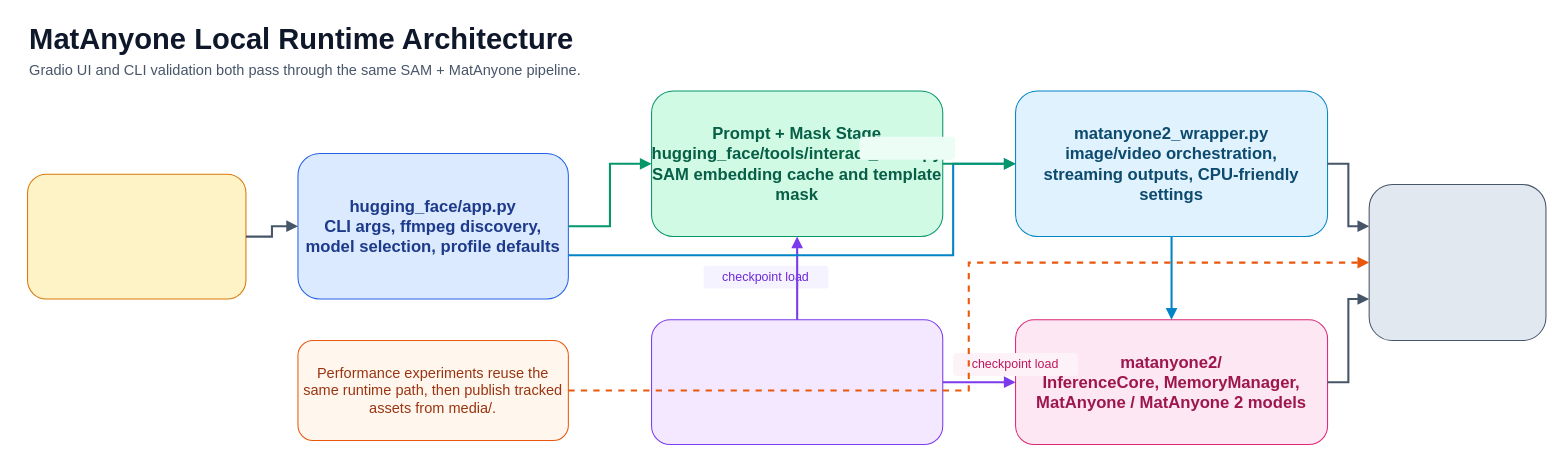
This 1564x463 diagram has some shape labels left out. The centre of each missing label's shape, as x and y in pixels:
"Entry Points Gradio UI scripts/run_pipeline_check.py" belongs at (x=136, y=236).
"Outputs UI previews MP4 / WebM / WebP results/ artifacts" belongs at (x=1457, y=262).
"pretrained_models/ SAM + MatAnyone checkpoints downloaded on demand" belongs at (x=797, y=382).
"template mask" belongs at (x=907, y=147).
